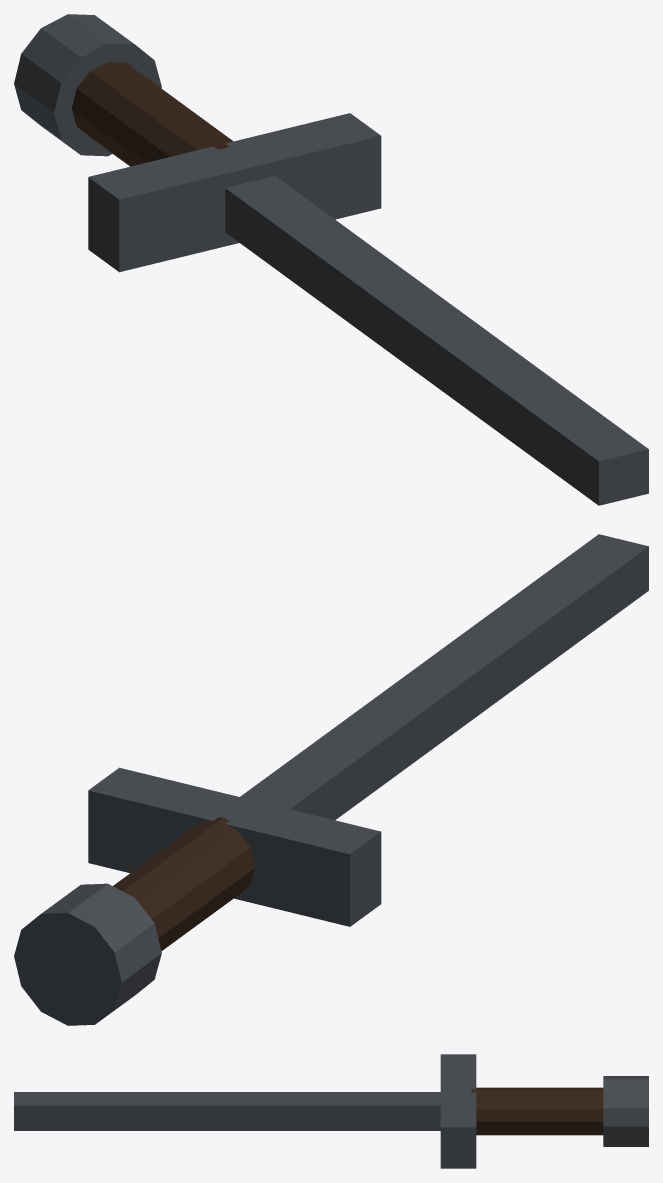
File: SM_IronSword.obj
The picture shows the model from 3 angles, top to bottom: view 1: azimuth 30°, elevation 25°; view 2: azimuth 150°, elevation 25°; view 3: azimuth 270°, elevation 25°; orthographic projection. The views are drawn at different scales.
Bounding box in the file's own units: 0.34 × 0.14 × 1.25.
